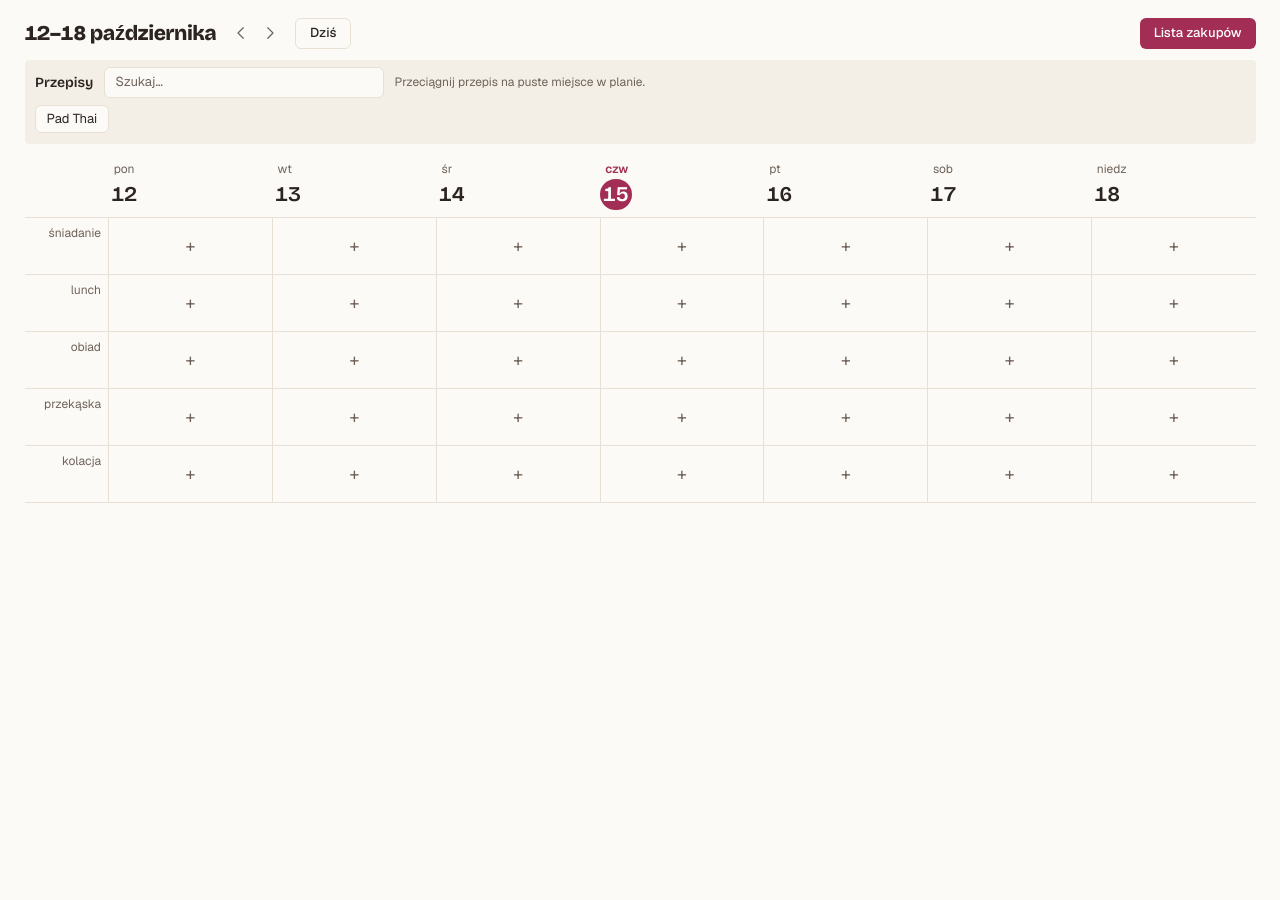
Test case: WeekPlan adding a recipe › takes the recipe off again when the add fails and the plan cannot be reloaded
This screenshot has width=1280, height=900.
Click the button named "Dodaj posiłek" at [190, 246], box [112,222,268,271]
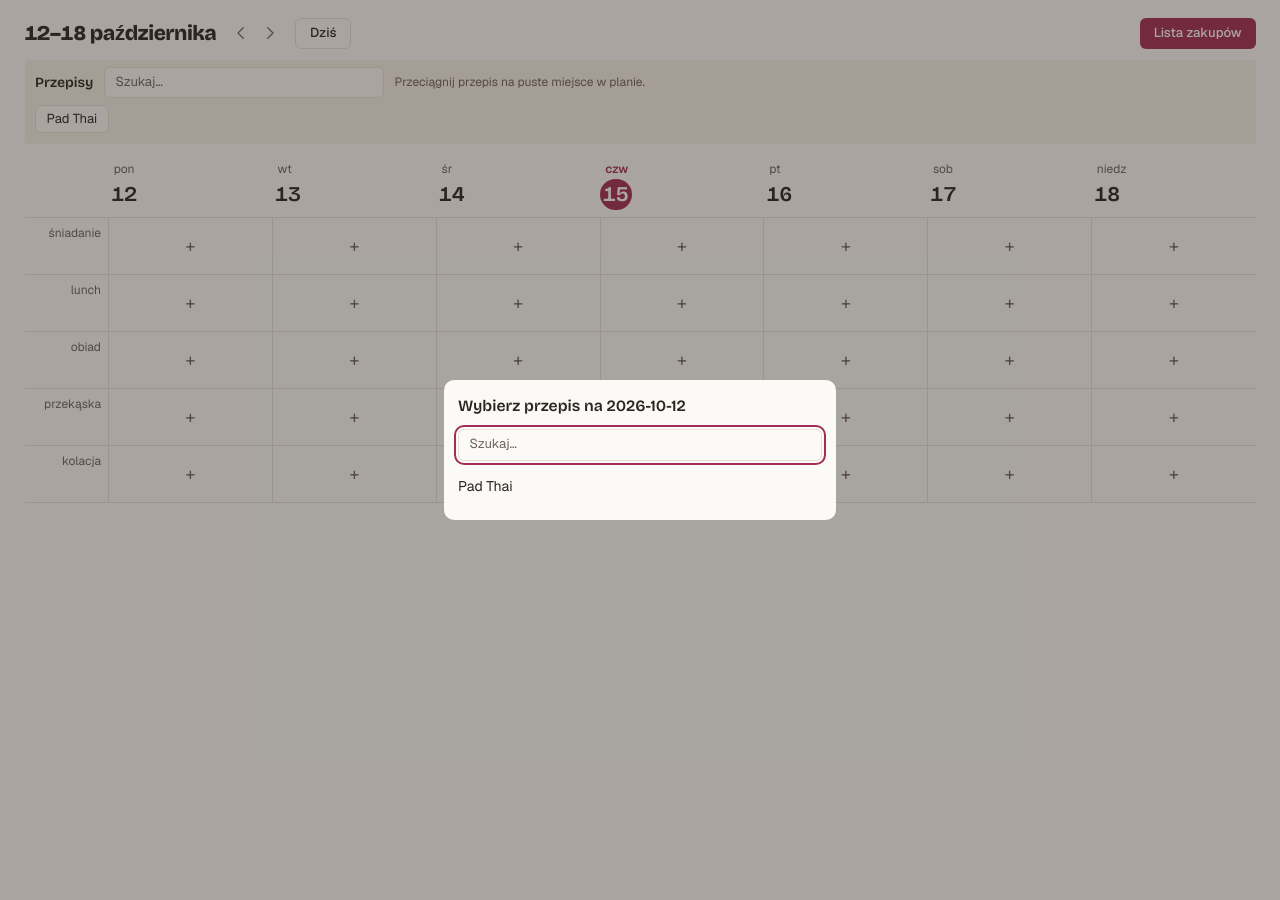
Click the button "Pad Thai" at [485, 486], box [458,468,822,506]
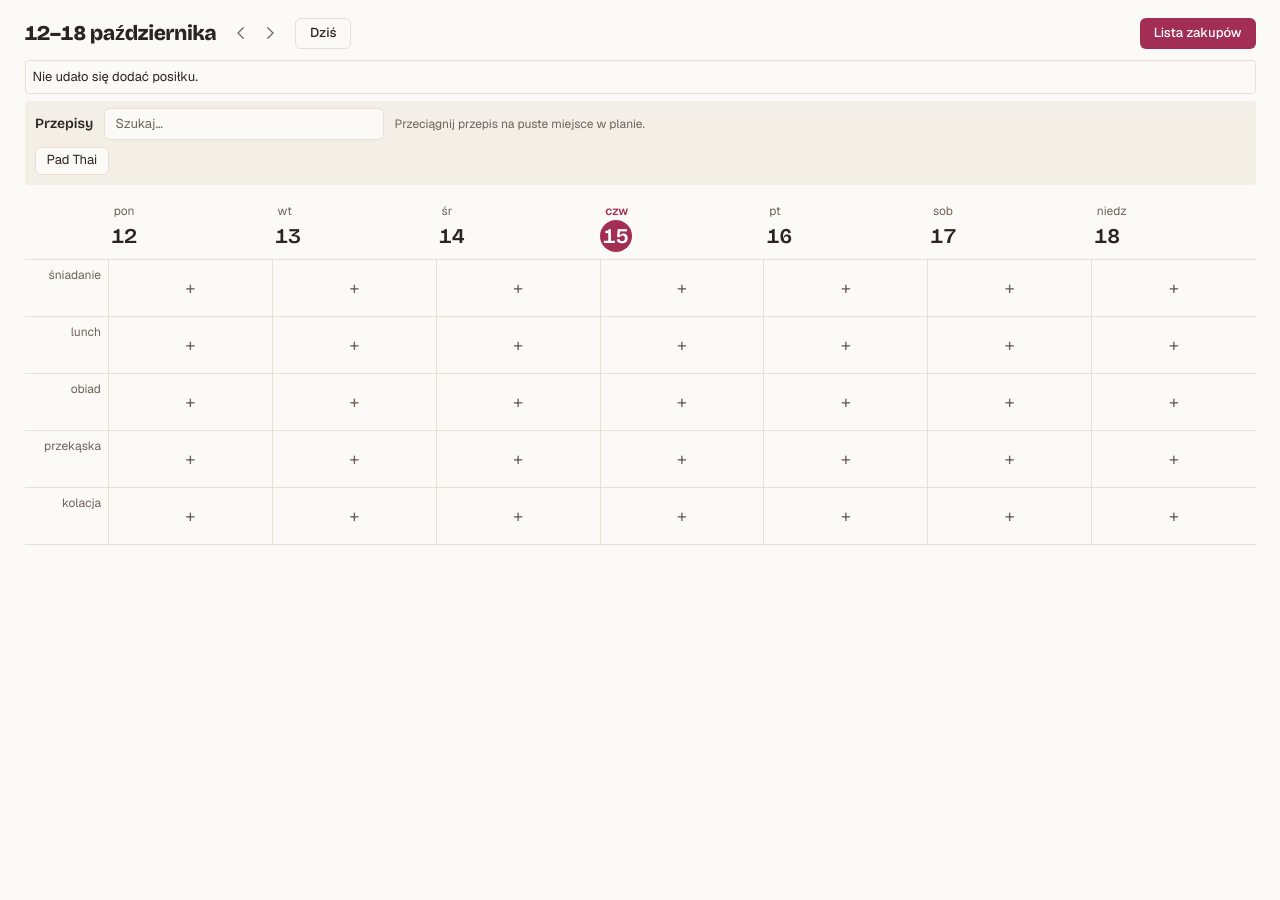
Expected: the message "Nie udało się dodać posiłku." is shown, [24,60,1256,94]
